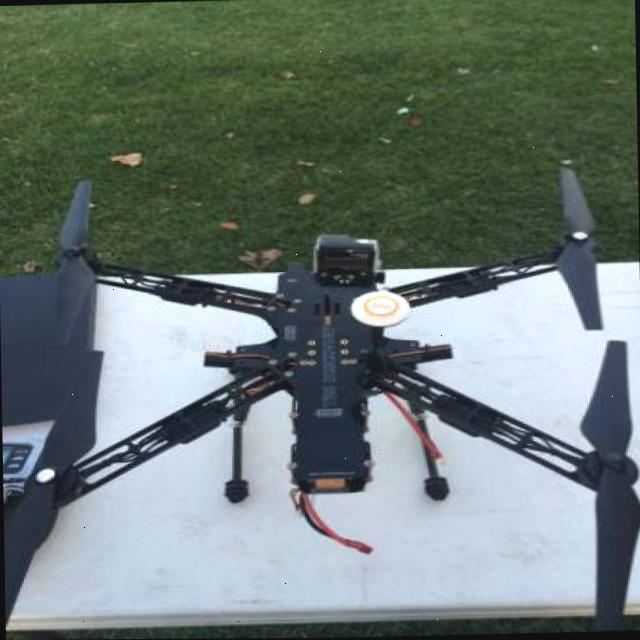drone: (14, 158, 640, 584)
